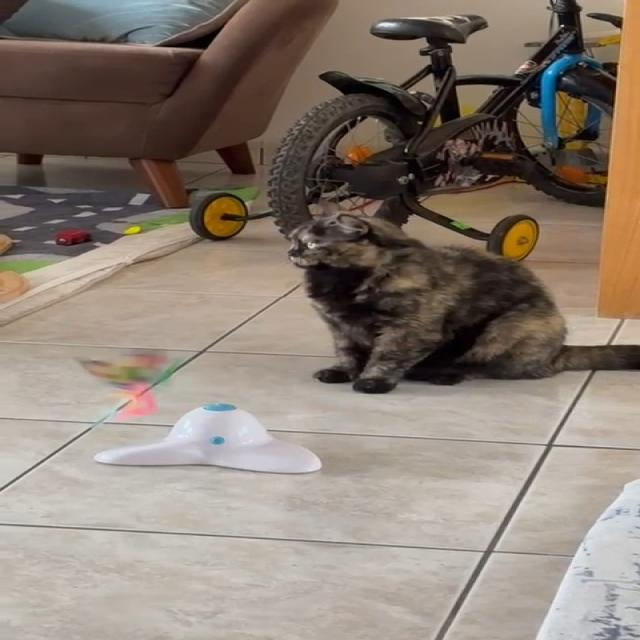authorized: (284, 211, 639, 394)
